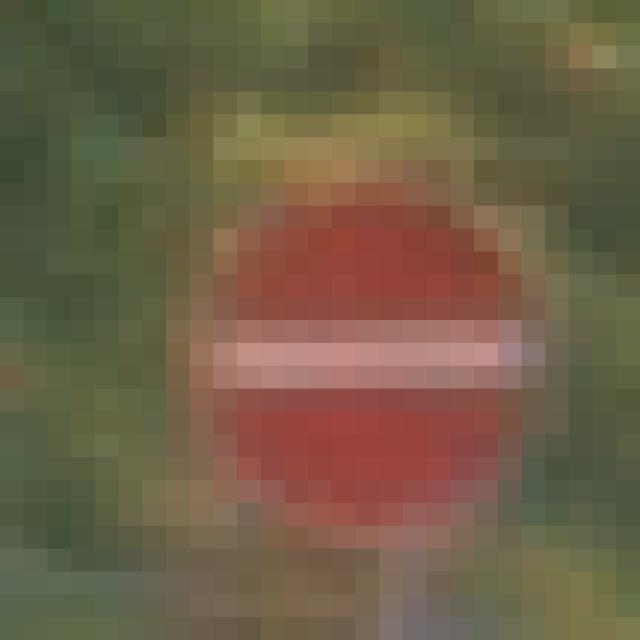No Entry: (119, 115, 499, 504)
